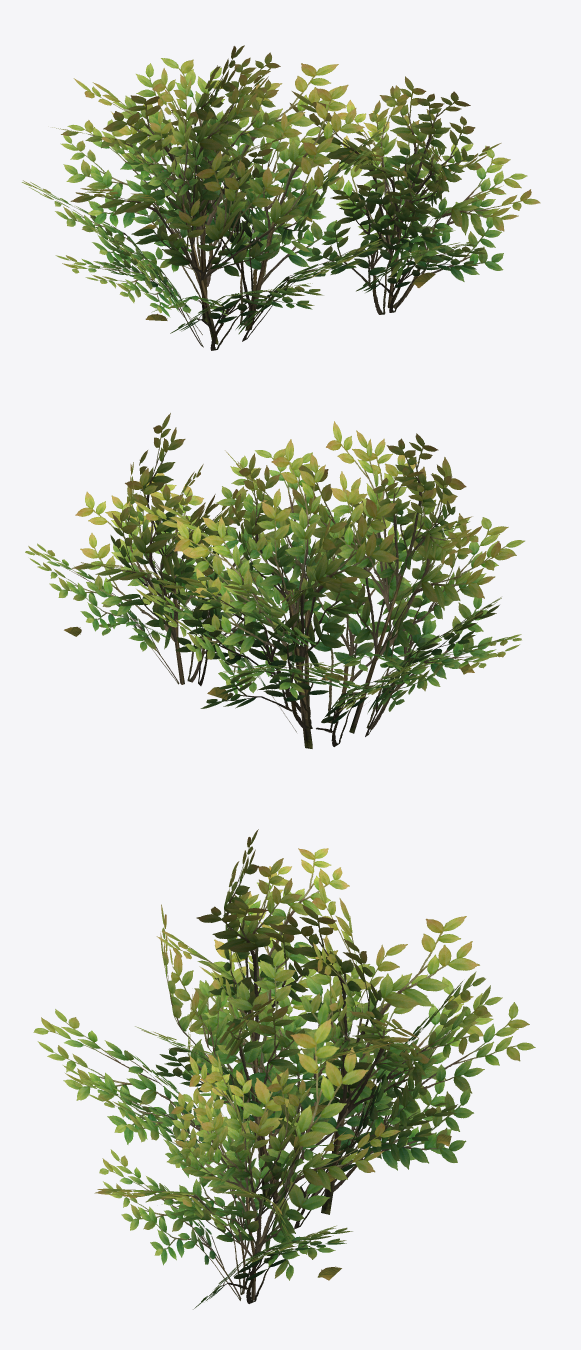
Rendered from 1001_Plant_huacao_18.FBX.
3 renders of one model, top to bottom at view 1: azimuth 30°, elevation 25°; view 2: azimuth 150°, elevation 25°; view 3: azimuth 270°, elevation 25°, orthographic. The views are drawn at different scales.
Visible parts, largest first — view 1: 1001_Plant_huacao_18; view 2: 1001_Plant_huacao_18; view 3: 1001_Plant_huacao_18.
Part boxes in pixels (x1,y1,x2,y2): 1001_Plant_huacao_18: (22,45,540,350); 1001_Plant_huacao_18: (25,413,524,748); 1001_Plant_huacao_18: (33,829,535,1309).
Size of the model in its own units: 555 by 353 by 464.
